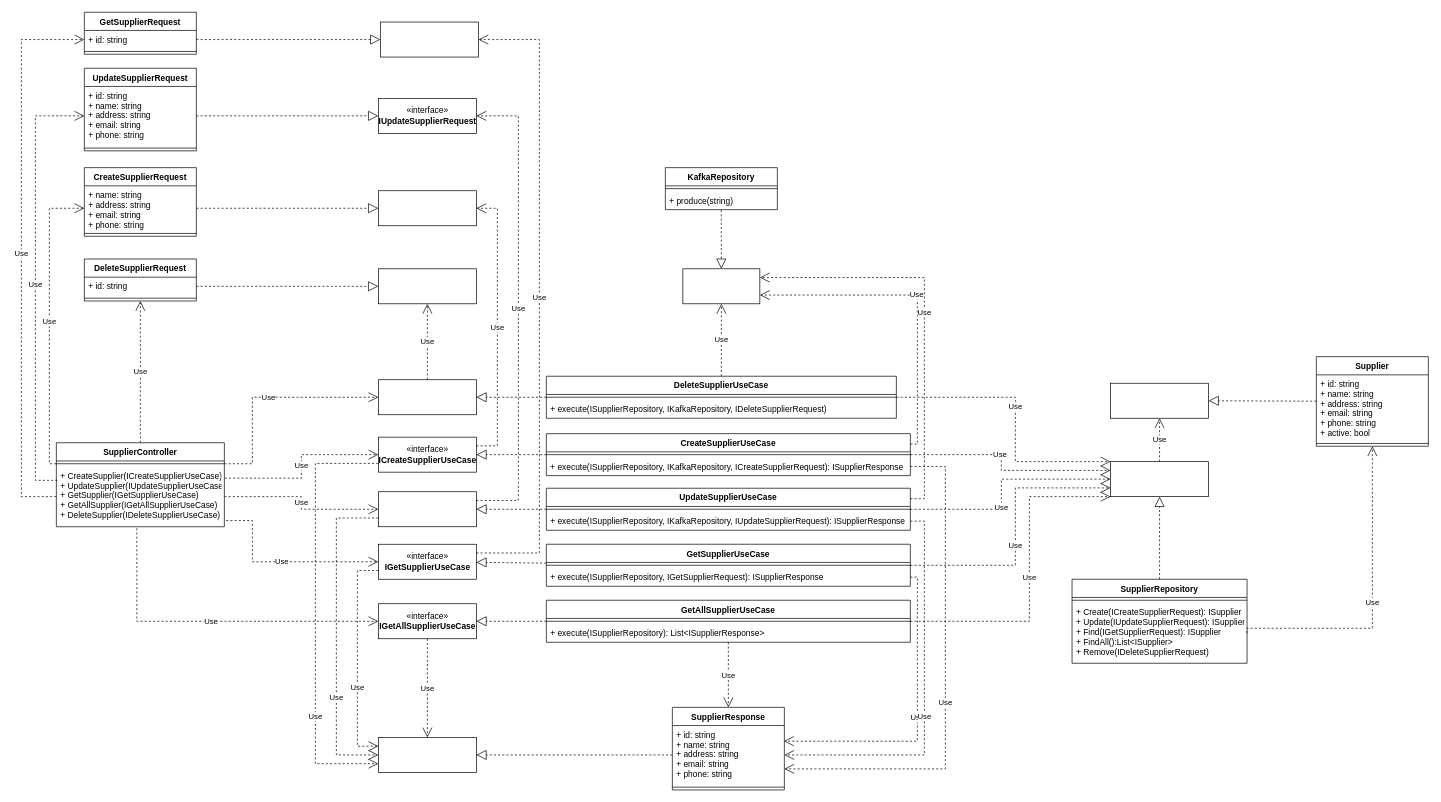
Some shapes in this 1441 by 802 pixel diagram are drawn without their labels. Here are the shapes that lost their labels. From the top down, the centre of each, then its label:
the point at 429,39: «interface» IGetSupplierRequest
the point at 427,208: «interface» ICreateSupplierRequest
the point at 427,286: «interface» IDeleteSupplierRequest
the point at 721,286: «interface» IKafkaRepository
the point at 427,397: «interface» IDeleteSupplier UseCase
the point at 1159,400: «interface» ISupplier
the point at 1159,479: «interface» ISupplierRepository
the point at 427,509: «interface» IUpdateSupplierUseCase
the point at 427,754: «interface» ISupplierResponse
